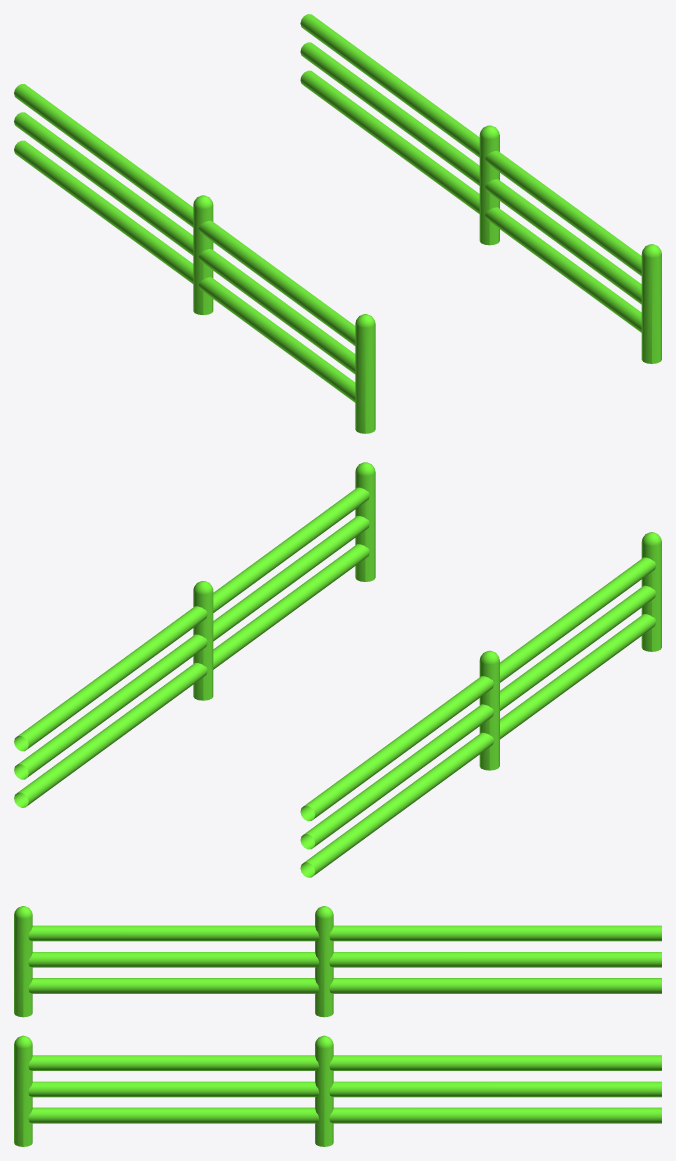
The model's file is Rail_Finish.fbx.
3 renders of one model, top to bottom at view 1: azimuth 30°, elevation 25°; view 2: azimuth 150°, elevation 25°; view 3: azimuth 270°, elevation 25°, orthographic. The views are drawn at different scales.
Parts seen in each view (by area): view 1: Rail_Finish; view 2: Rail_Finish; view 3: Rail_Finish.
Part boxes in pixels (x1,y1,x2,y2): Rail_Finish: (14,14,661,433); Rail_Finish: (14,462,661,877); Rail_Finish: (14,906,661,1146).
Bounding box in the file's own units: 377 × 136 × 751.
